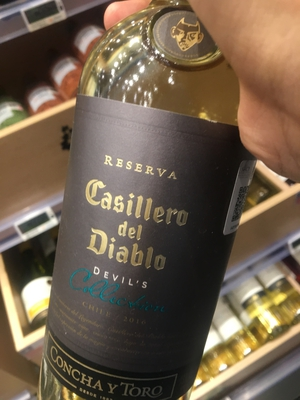casillero del diablo devils collection verde: (43, 34, 247, 400)
